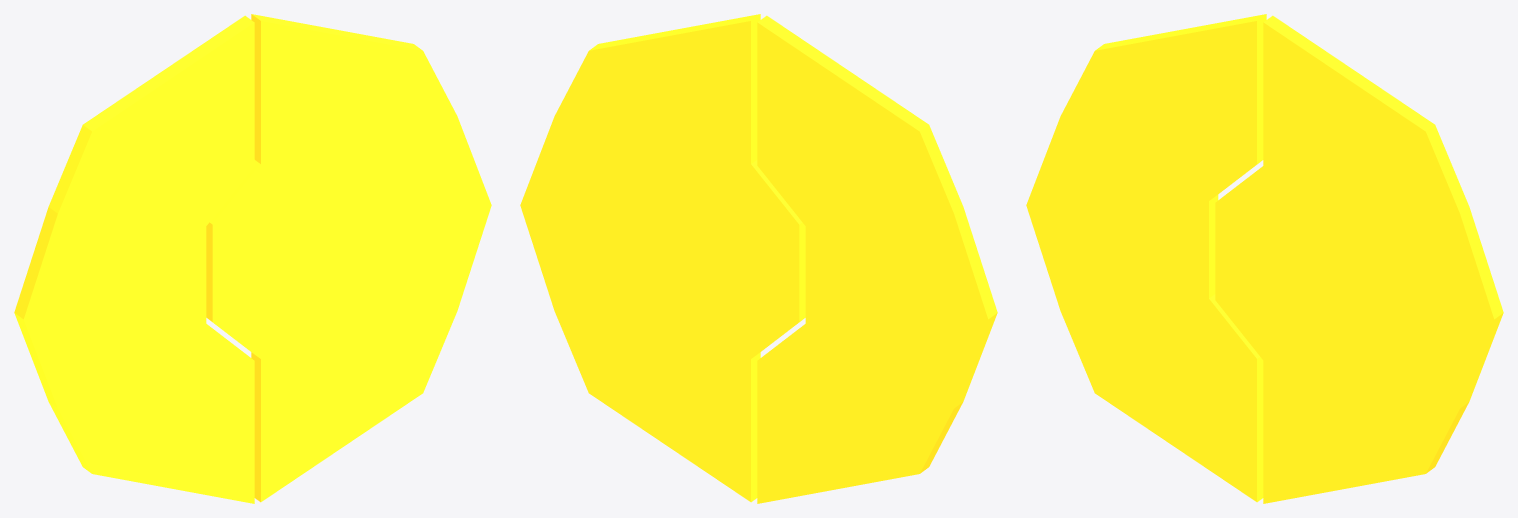
The model's file is Coin.fbx.
3 renders of one model, left to right at view 1: azimuth 30°, elevation 25°; view 2: azimuth 150°, elevation 25°; view 3: azimuth 330°, elevation 25°, orthographic.
Visible parts, largest first — view 1: Coin; view 2: Coin; view 3: Coin.
Boxes of the visible parts, x1,y1,x2,y2 form: Coin: [14, 14, 491, 503]; Coin: [520, 14, 997, 503]; Coin: [1026, 14, 1503, 503].
Size of the model in its own units: 8.87 by 8.72 by 0.309.
